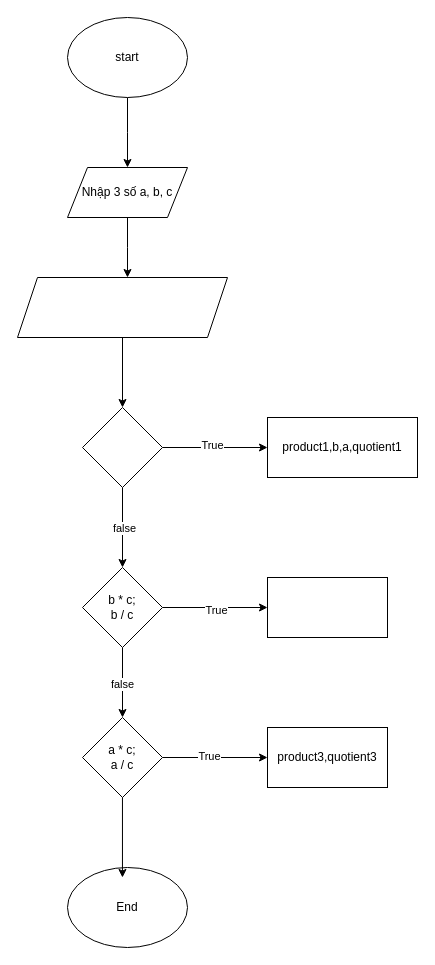
The diagram is 435 pixels wide and 965 high, and some of its shapes have lost their labels. The box of each missing label's shape, as (x1, y1, x2, y2) in pixels:
a * b; b / a: (82, 406, 162, 488)
product2,quotient2: (266, 576, 388, 638)
Tích và thương của các cặp số là: (16, 276, 228, 338)
